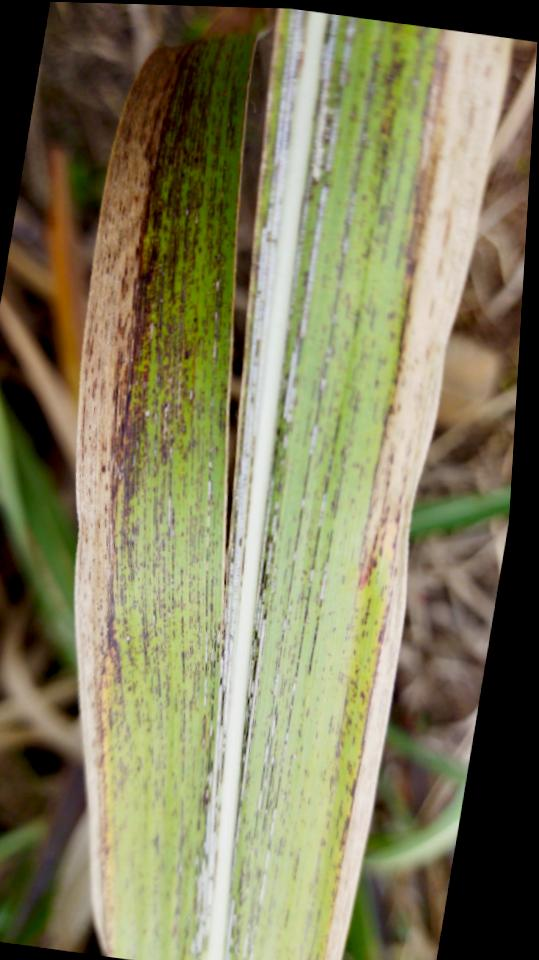Rust: (224, 13, 514, 960), (74, 8, 309, 960)
